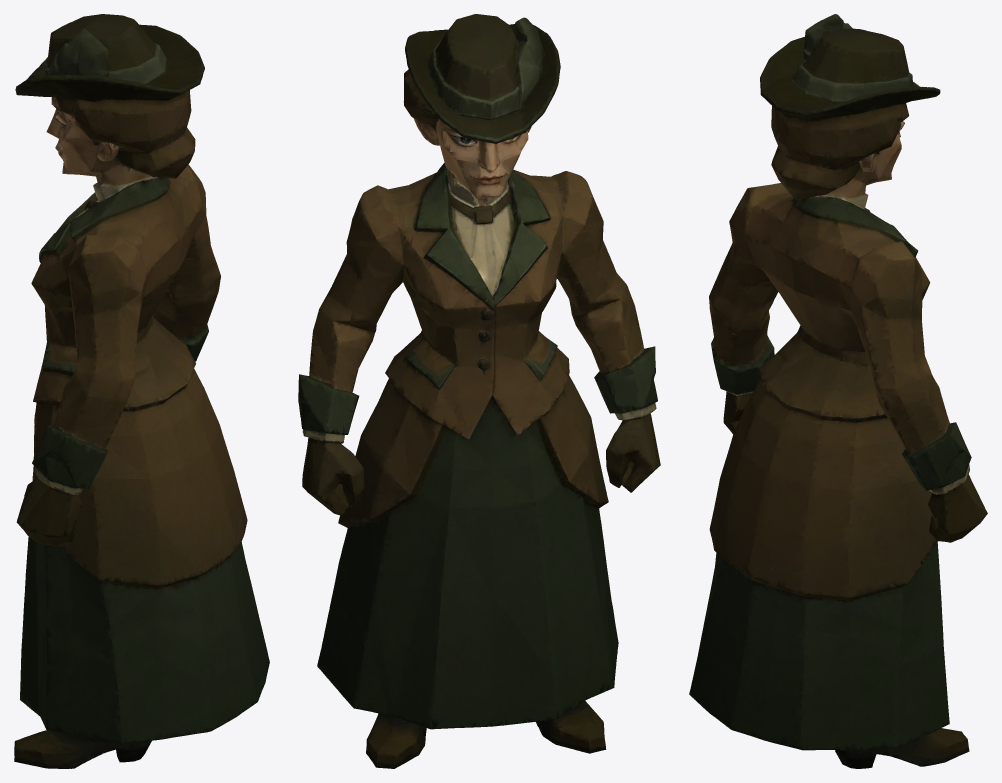
The model's file is Madame_Selma.fbx.
3 renders of one model, left to right at view 1: azimuth 30°, elevation 25°; view 2: azimuth 150°, elevation 25°; view 3: azimuth 270°, elevation 25°, orthographic. The views are drawn at different scales.
Visible parts, largest first — view 1: tripo_node_84055117.002; view 2: tripo_node_84055117.002; view 3: tripo_node_84055117.002.
Part boxes in pixels (x1,y1,x2,y2): tripo_node_84055117.002: (14,14,269,768); tripo_node_84055117.002: (298,14,660,768); tripo_node_84055117.002: (689,14,987,768).
Size of the model in its own units: 0.6942 by 0.7202 by 1.8.
1 material, 1 textured.
